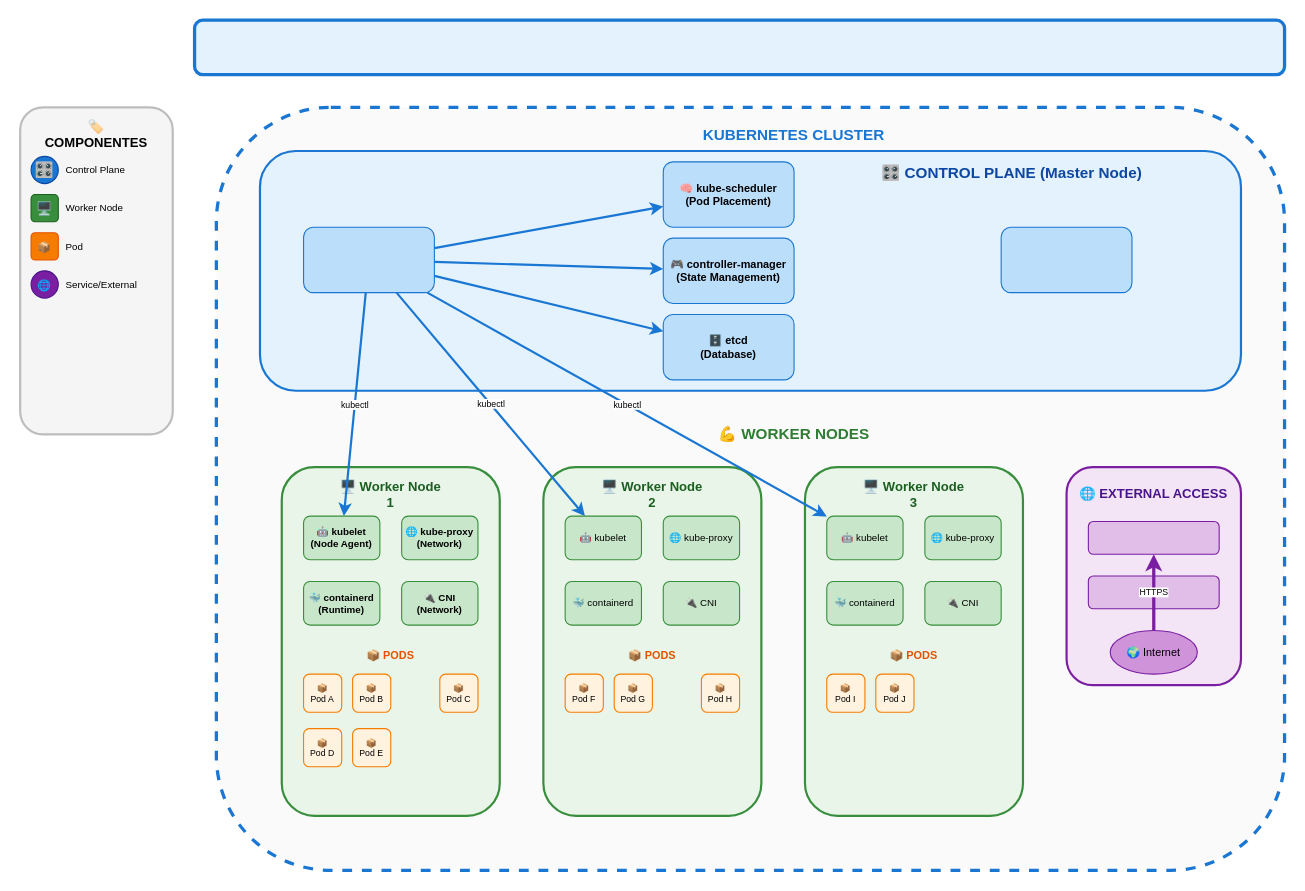
Image size: 1305x891. Some labels were removed from this diagram. Each missing label, with the centre of its shape:
☁️ cloud-controller (Cloud Integration): (x=1066, y=259)
⚖️ Load Balancer: (x=1153, y=537)
📡 kube-apiserver (API Gateway): (x=368, y=259)
🚀 KUBERNETES CLUSTER ARCHITECTURE: (x=739, y=47)
🚪 Ingress: (x=1153, y=592)
